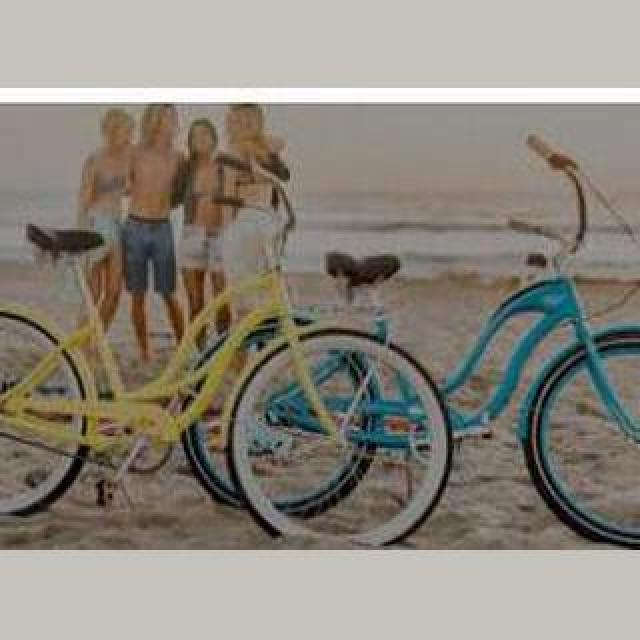MC-Bike: (218, 106, 298, 294), (178, 118, 234, 346), (128, 108, 180, 352), (80, 104, 138, 306)
Person: (226, 130, 640, 550), (2, 222, 382, 522)
